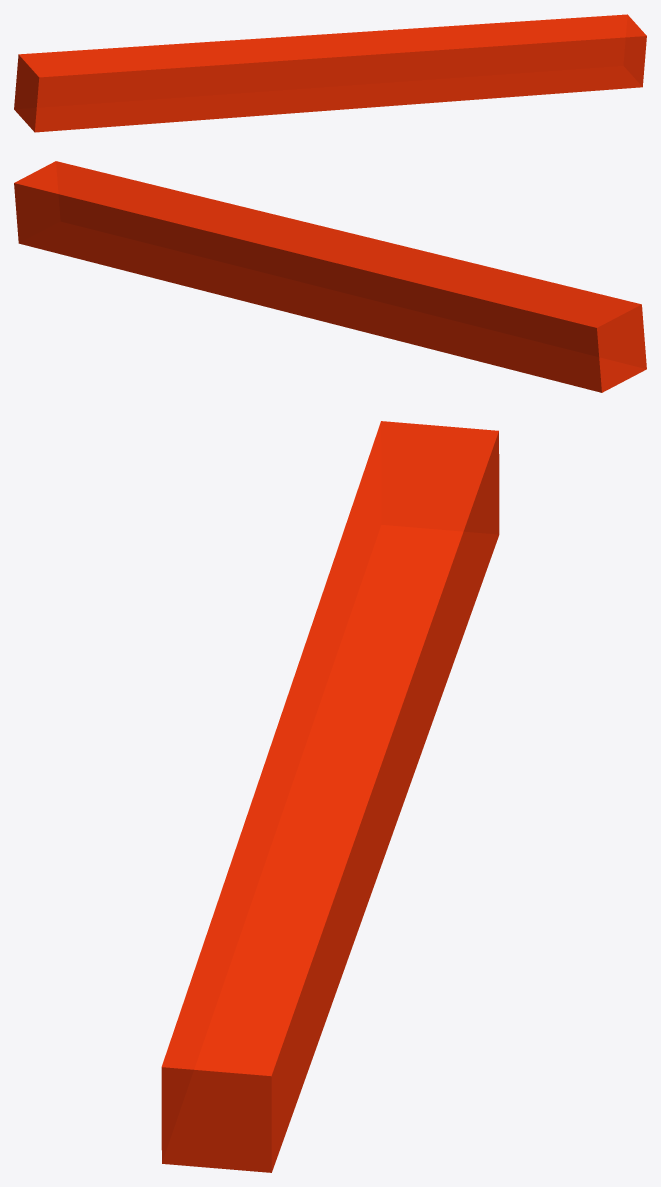
The model's file is Event_420107950_EErechit_4.fbx.
3 views of the same model, one above another, from view 1: azimuth 30°, elevation 25°; view 2: azimuth 150°, elevation 25°; view 3: azimuth 270°, elevation 25° (orthographic). The views are drawn at different scales.
Parts seen in each view (by area): view 1: Model; view 2: Model; view 3: Model.
Boxes of the visible parts, box(x1,y1,x2,y2) form: Model: box(14, 14, 646, 132); Model: box(14, 161, 646, 392); Model: box(161, 421, 499, 1172).
Size of the model in its own units: 0.8494 by 0.1496 by 0.2198.
